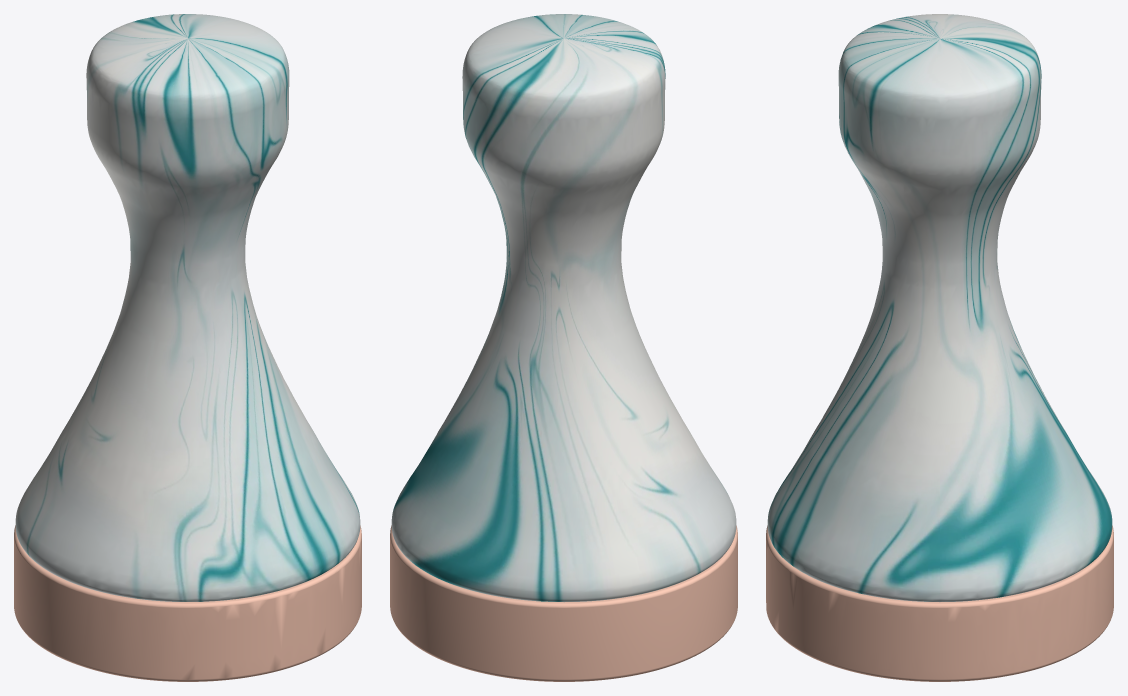
Rendered from rook-white-hd.glb.
3 views of the same model, side by side, from view 1: azimuth 30°, elevation 25°; view 2: azimuth 150°, elevation 25°; view 3: azimuth 270°, elevation 25° (orthographic).
Parts seen in each view (by area): view 1: vez_bila; view 2: vez_bila; view 3: vez_bila.
Boxes of the visible parts, <box> form: vez_bila: <box>14,14,361,681</box>; vez_bila: <box>390,14,737,681</box>; vez_bila: <box>766,14,1113,681</box>.
Bounding box in the file's own units: 0.6729 × 1.22 × 0.6729.
2 materials, 1 textured.
